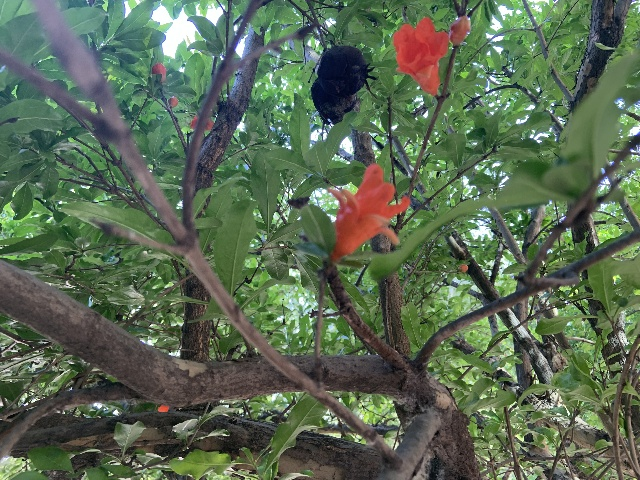bud: (449, 14, 470, 45), (151, 62, 166, 83), (168, 96, 178, 107), (459, 264, 468, 272)
flower: (327, 163, 409, 261), (392, 16, 449, 96)
